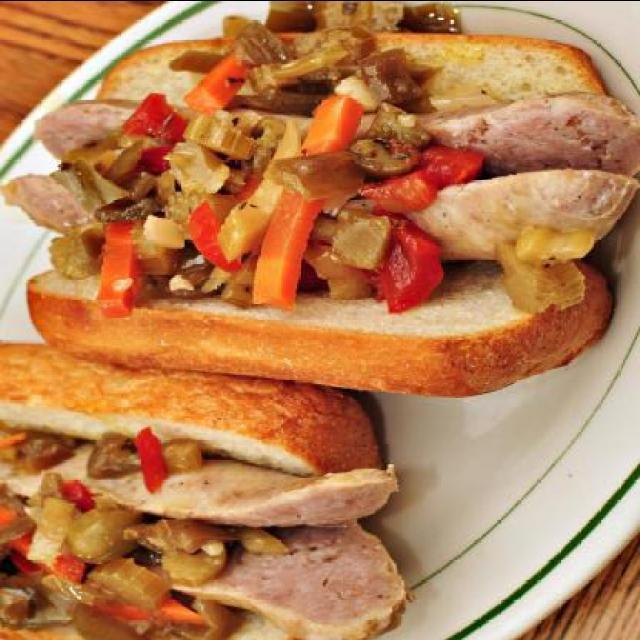Hot dog: (0, 2, 638, 487), (0, 345, 412, 640)
